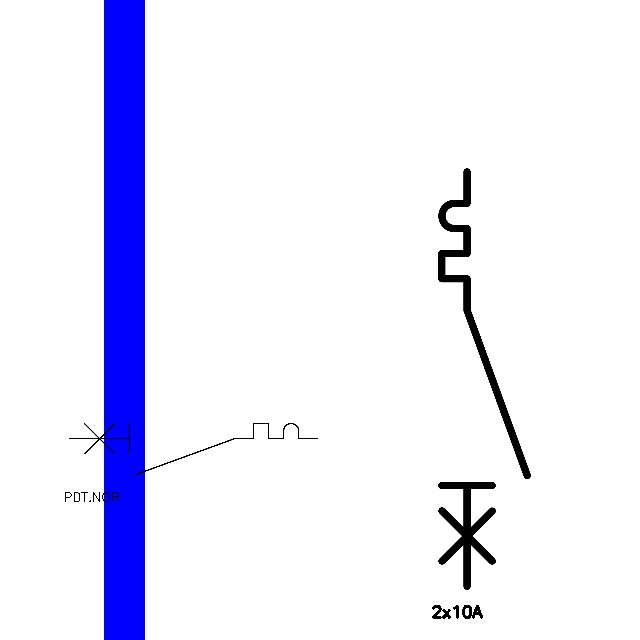interruptor_termomagnetico: (431, 161, 537, 597), (63, 417, 324, 481)
